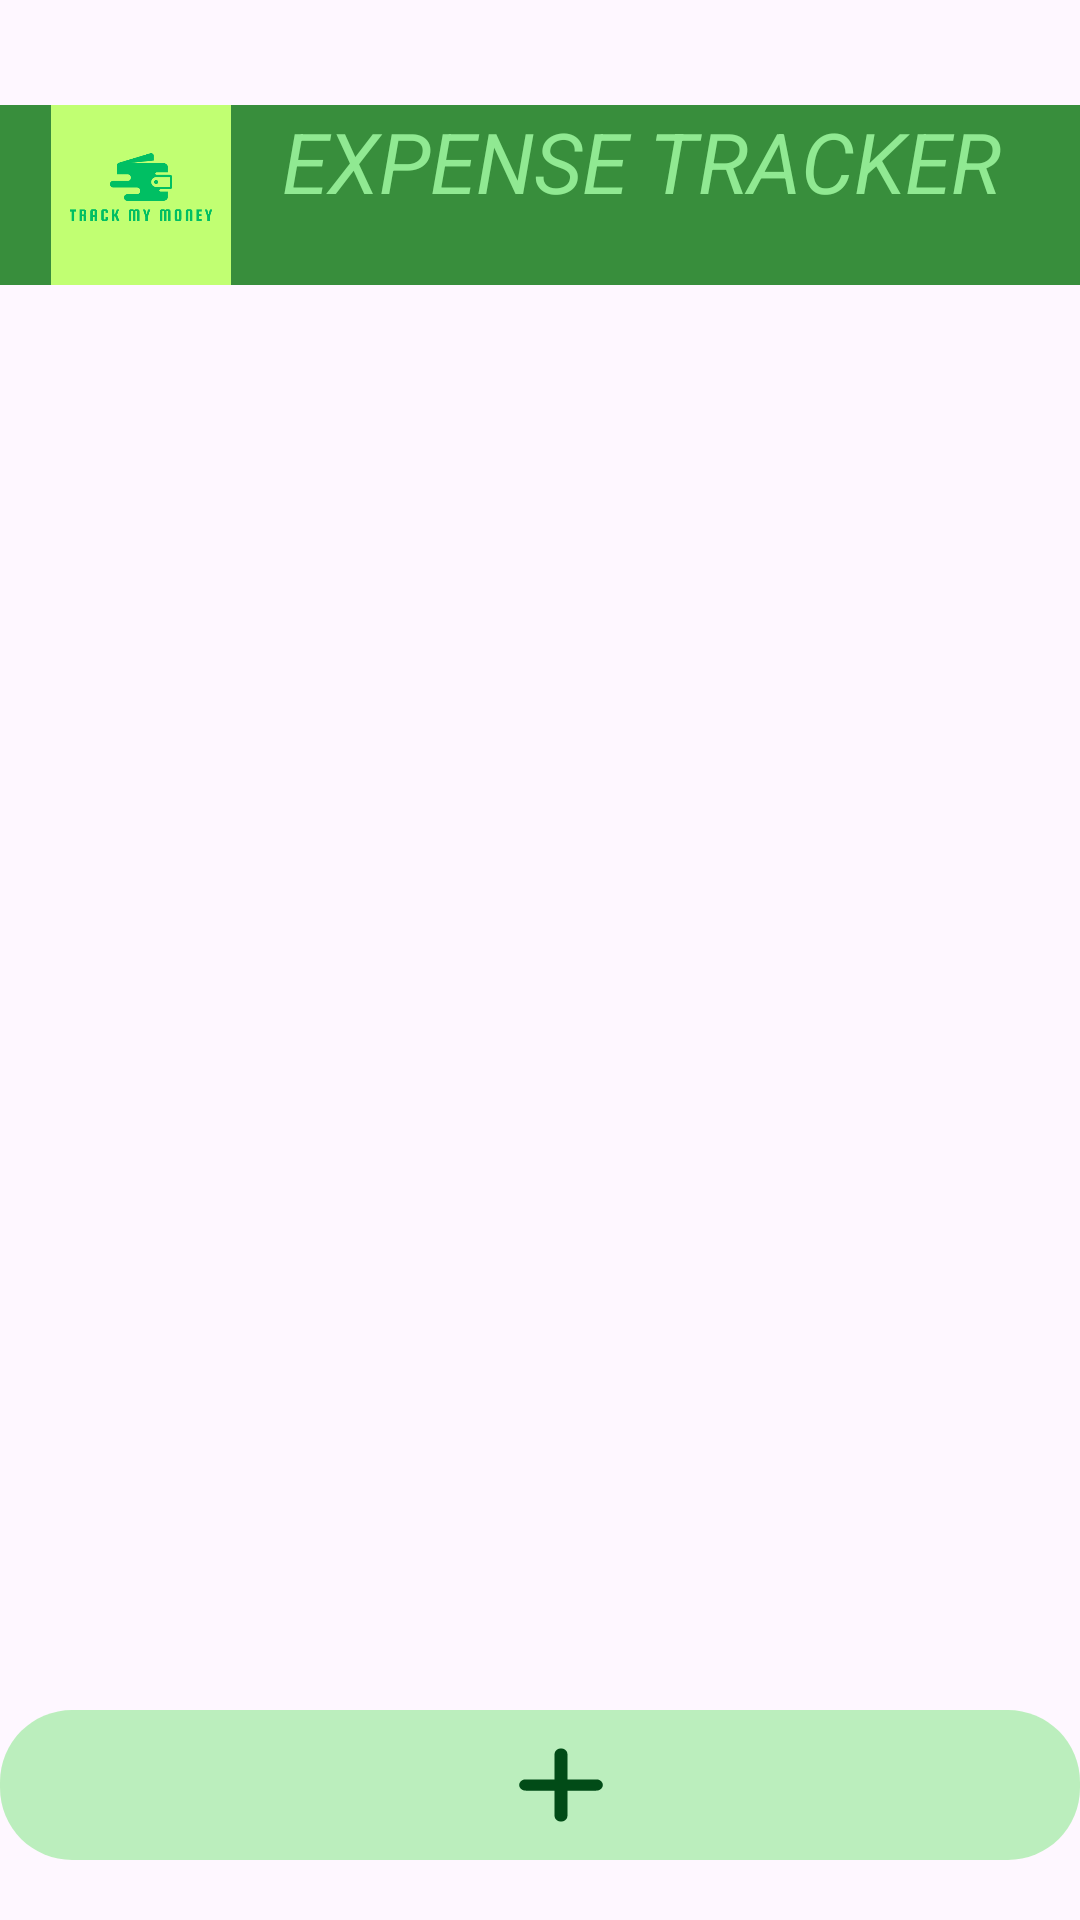

Where to tap for icons on this 1080w x 1920h app screen, as point (x, y):
plus: point (561, 1785)
